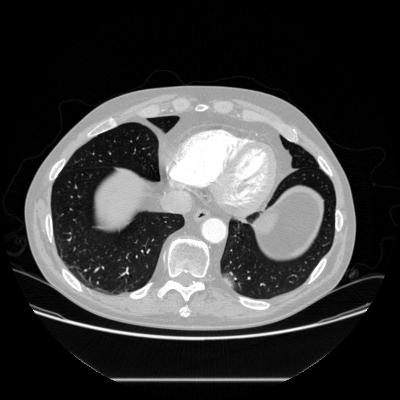nodule: (221, 272, 237, 288)
